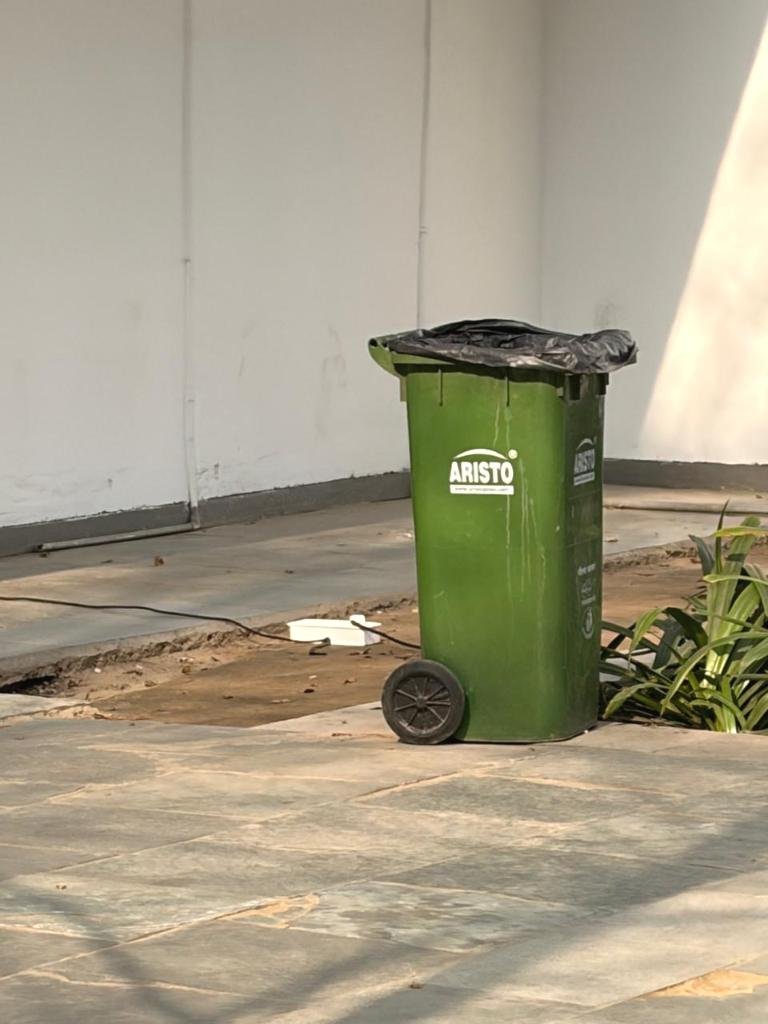dustbin: (362, 309, 640, 760)
